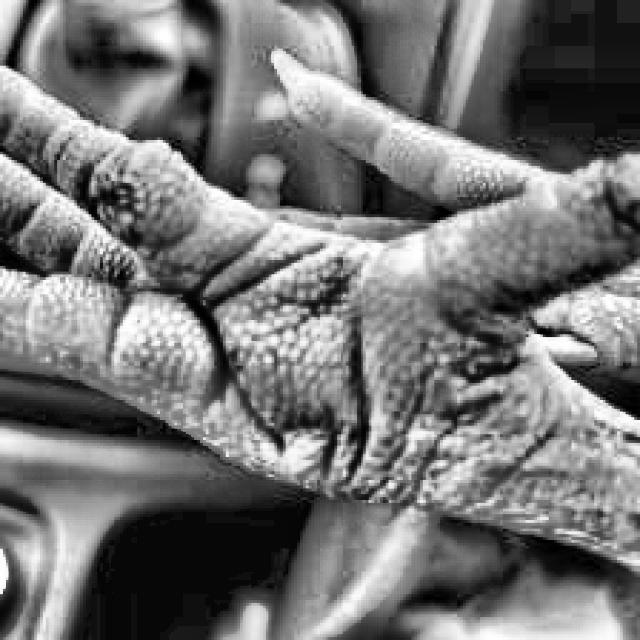Bumble foot: (0, 43, 637, 588)
